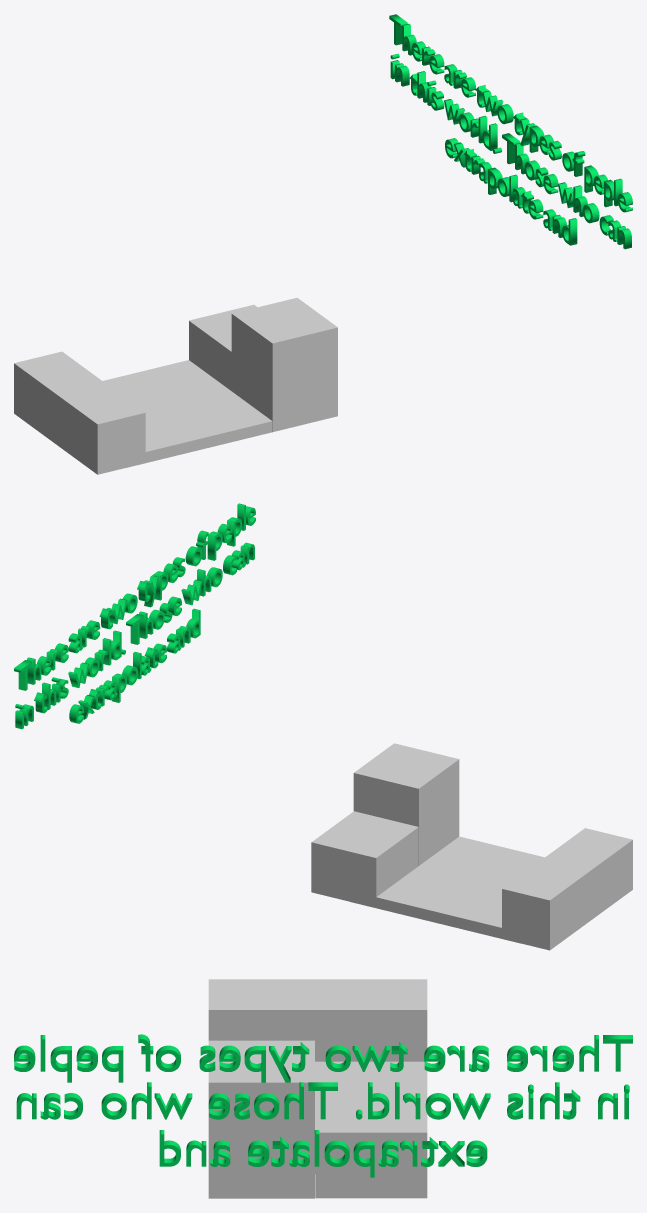
Rendered from level2-sgFgGui0.glb.
3 renders of one model, top to bottom at view 1: azimuth 30°, elevation 25°; view 2: azimuth 150°, elevation 25°; view 3: azimuth 270°, elevation 25°, orthographic. The views are drawn at different scales.
Visible parts, largest first — view 1: Text_X, Cube.001, Cube.003, Cube, Cube.002; view 2: Text_X, Cube.003, Cube, Cube.001, Cube.002; view 3: Text_X, Cube.003, Cube.001, Cube.002, Cube.
Part boxes in pixels (x1,y1,x2,y2): Text_X: [389, 14, 632, 249]; Cube.001: [231, 297, 337, 432]; Cube.003: [14, 351, 145, 474]; Cube: [103, 360, 272, 467]; Cube.002: [189, 304, 256, 390]; Text_X: [14, 503, 255, 729]; Cube.003: [502, 828, 632, 950]; Cube: [349, 836, 544, 943]; Cube.001: [353, 743, 459, 865]; Cube.002: [311, 811, 418, 901]; Text_X: [14, 1034, 632, 1177]; Cube.003: [208, 979, 427, 1061]; Cube.001: [208, 1040, 314, 1198]; Cube.002: [315, 1091, 427, 1198]; Cube: [315, 1061, 427, 1173].
Bounding box in the file's own units: 53.14 × 25.33 × 47.27.
